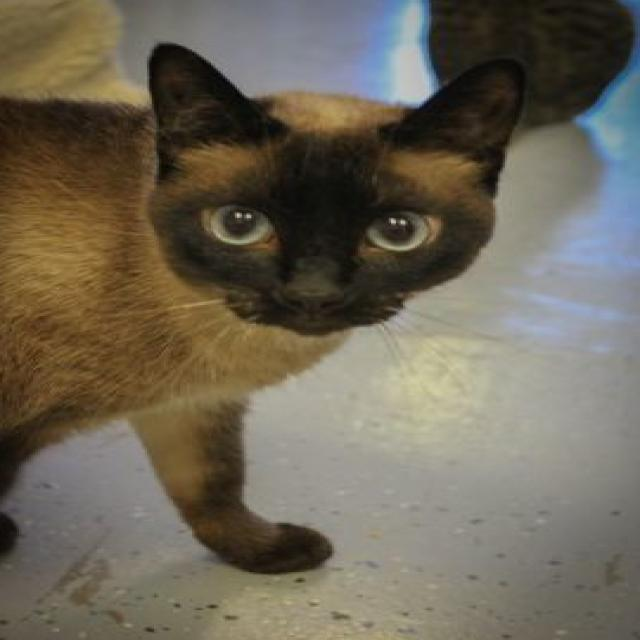Siamese: (0, 34, 538, 574)
